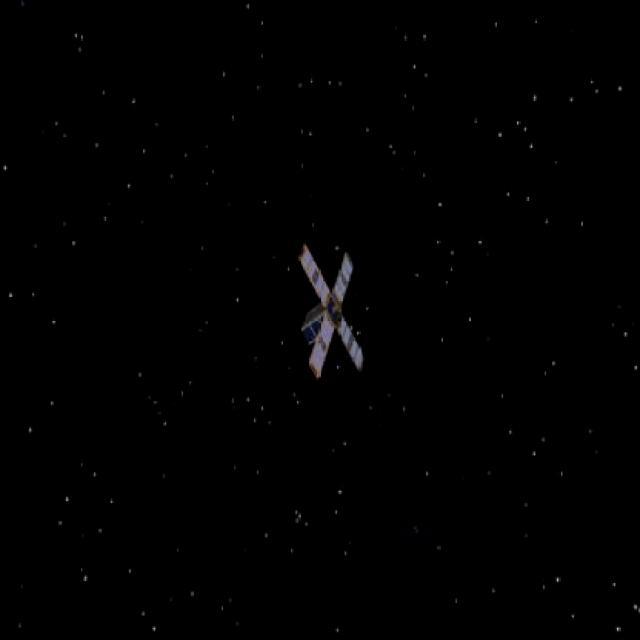medium_debris: (290, 244, 379, 387)
